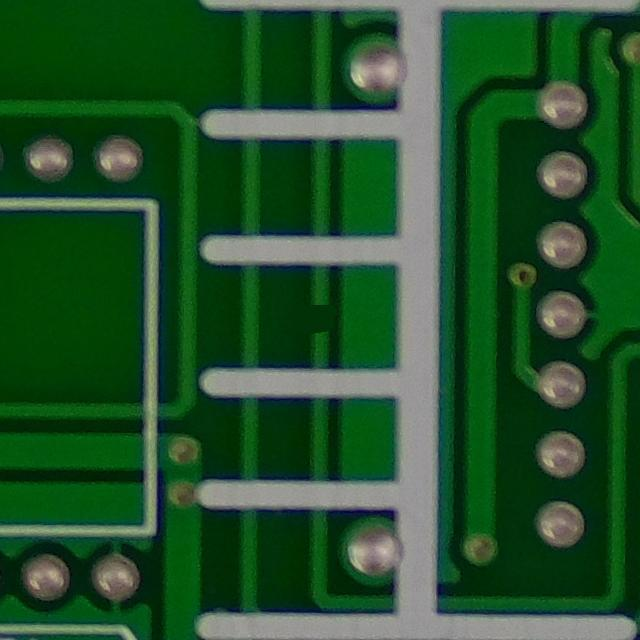open_circuit: (303, 294, 338, 347)
